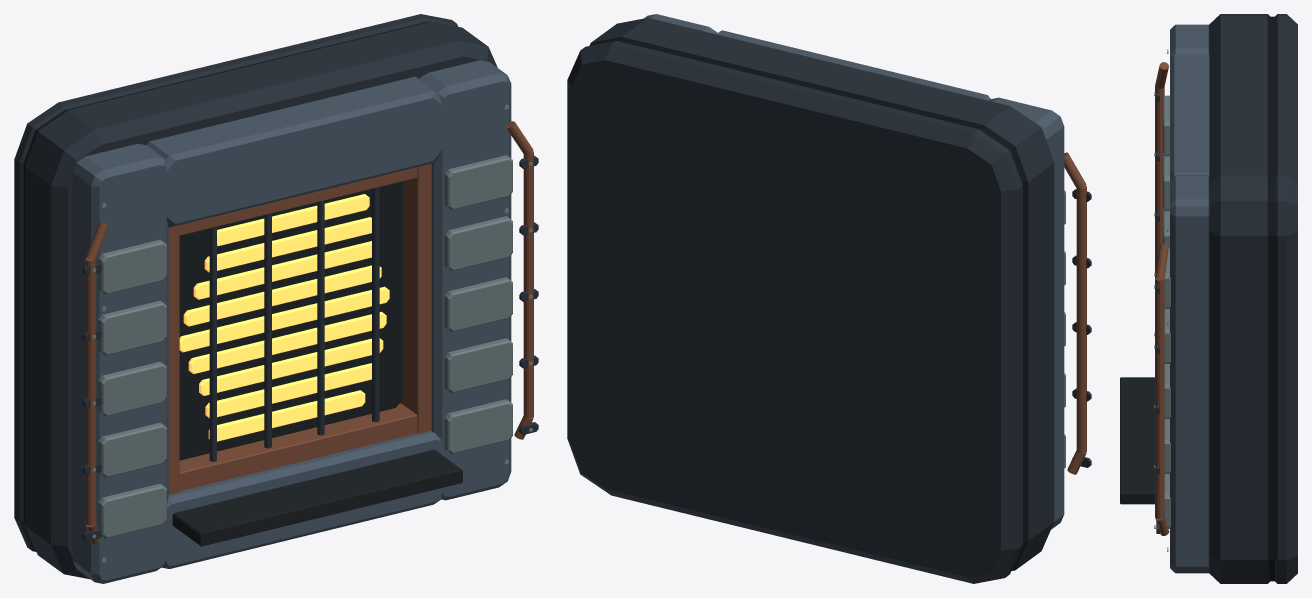
Rendered from A-11_ray_furnace.glb.
The picture shows the model from 3 angles, left to right: view 1: azimuth 30°, elevation 25°; view 2: azimuth 150°, elevation 25°; view 3: azimuth 270°, elevation 25°; orthographic projection. The views are drawn at different scales.
Parts seen in each view (by area): view 1: A-11_ray_furnace; view 2: A-11_ray_furnace; view 3: A-11_ray_furnace.
Part boxes in pixels (x1,y1,x2,y2): A-11_ray_furnace: (14, 14, 538, 583); A-11_ray_furnace: (567, 14, 1091, 583); A-11_ray_furnace: (1120, 14, 1297, 583).
Size of the model in its own units: 2.57 by 2.44 by 0.965.
